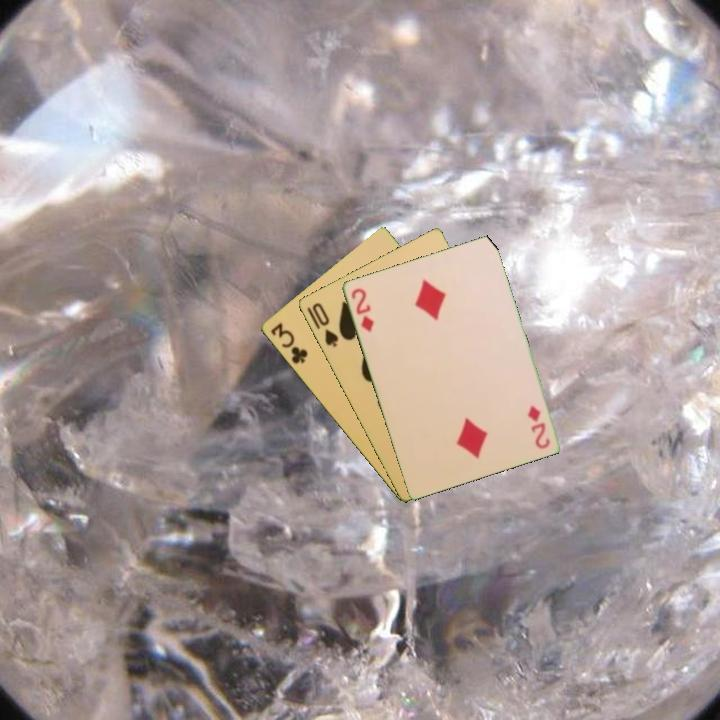10s: (308, 299, 341, 350)
2d: (347, 284, 376, 335), (524, 402, 552, 452)
3c: (267, 319, 310, 367)
